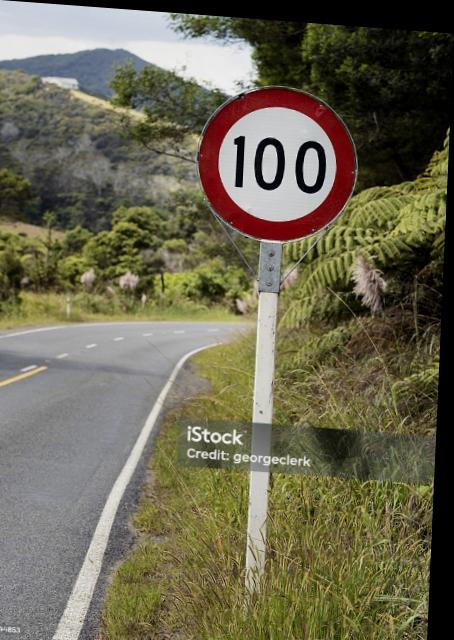limit100: (191, 71, 367, 242)
